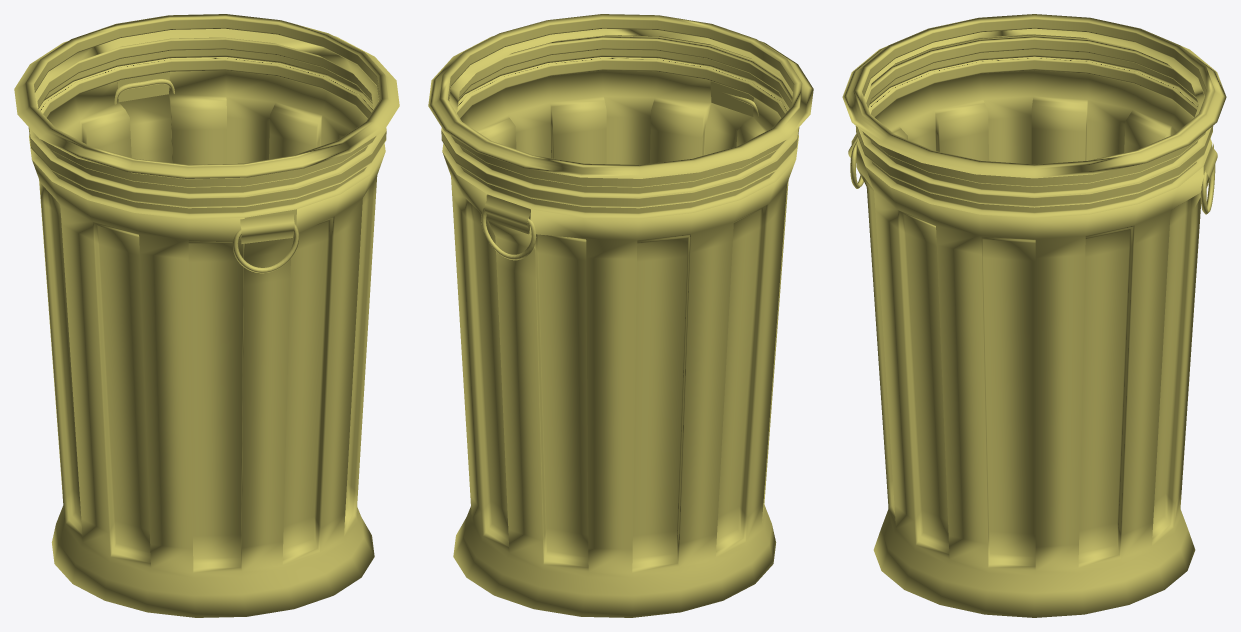
The model's file is yellowTrash.fbx.
3 views of the same model, side by side, from view 1: azimuth 30°, elevation 25°; view 2: azimuth 150°, elevation 25°; view 3: azimuth 270°, elevation 25° (orthographic).
Visible parts, largest first — view 1: Cylinder; view 2: Cylinder; view 3: Cylinder.
Part boxes in pixels (left/top/right/bottom): Cylinder: left=14, top=14, right=399, bottom=617; Cylinder: left=428, top=14, right=813, bottom=617; Cylinder: left=842, top=14, right=1226, bottom=617.
Size of the model in its own units: 212 by 278 by 212.
